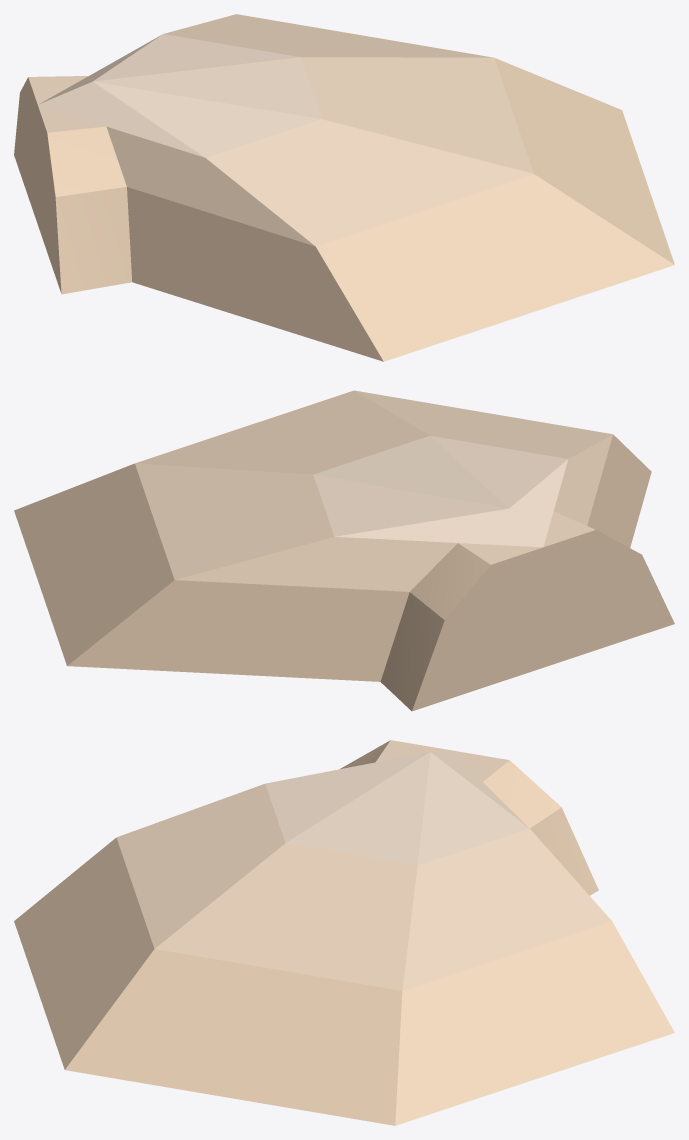
The model's file is Beach_Prop_Shell_2.glb.
3 renders of one model, top to bottom at view 1: azimuth 30°, elevation 25°; view 2: azimuth 150°, elevation 25°; view 3: azimuth 270°, elevation 25°, orthographic. The views are drawn at different scales.
Visible parts, largest first — view 1: Beach_Prop_Shell_2; view 2: Beach_Prop_Shell_2; view 3: Beach_Prop_Shell_2.
Boxes of the visible parts, x1,y1,x2,y2 form: Beach_Prop_Shell_2: (14,14,674,361); Beach_Prop_Shell_2: (14,390,674,711); Beach_Prop_Shell_2: (14,740,674,1125).
Size of the model in its own units: 0.1425 by 0.0312 by 0.1393.
